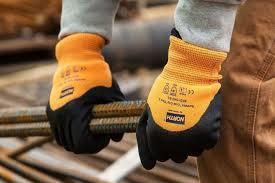gloves: (135, 28, 228, 171), (45, 33, 127, 155)
